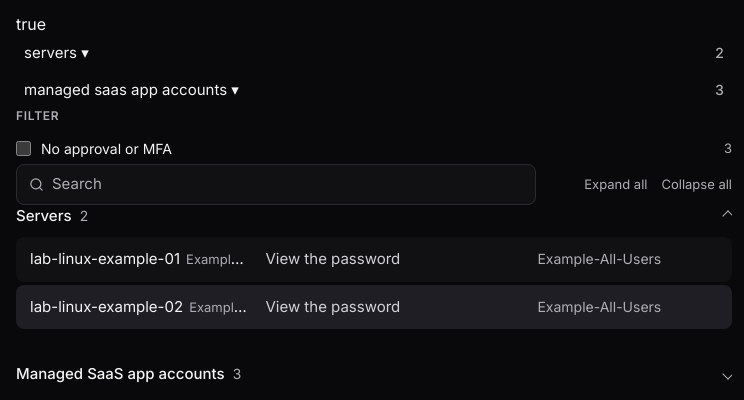
it: resource sections (GrantsMain) › type dropdowns in the rail › search narrows the list to the matching resources
Type "crm-redonly" into the search field named "Search access" at (288, 184), box [52,173,523,196]
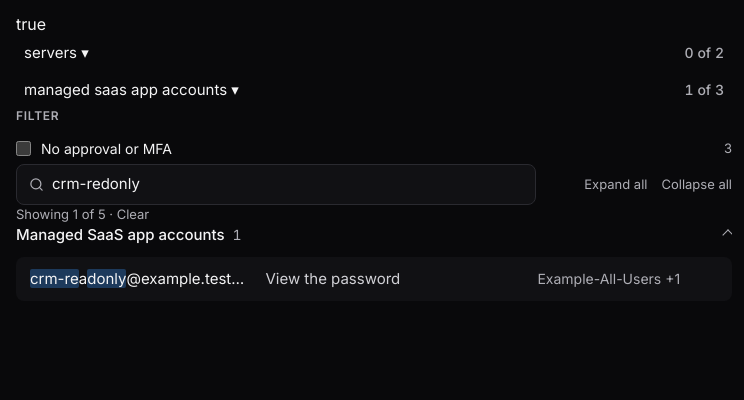
Click the button "1 of 3 managed saas app accounts ▾" at (704, 89), box [16,72,732,107]
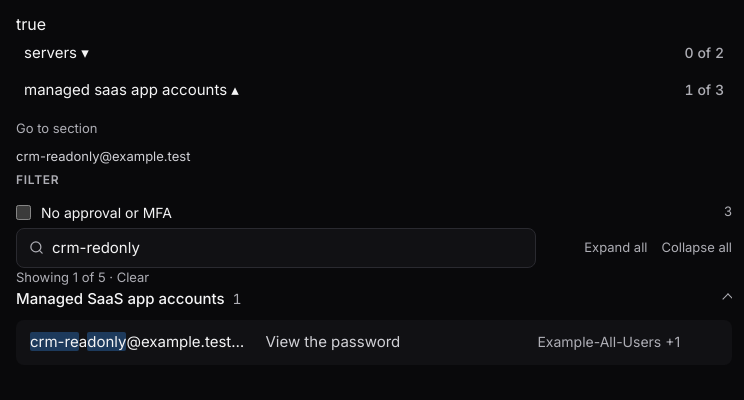
Expected: the button "crm-readonly@example.test" is shown, [16,143,732,170]
